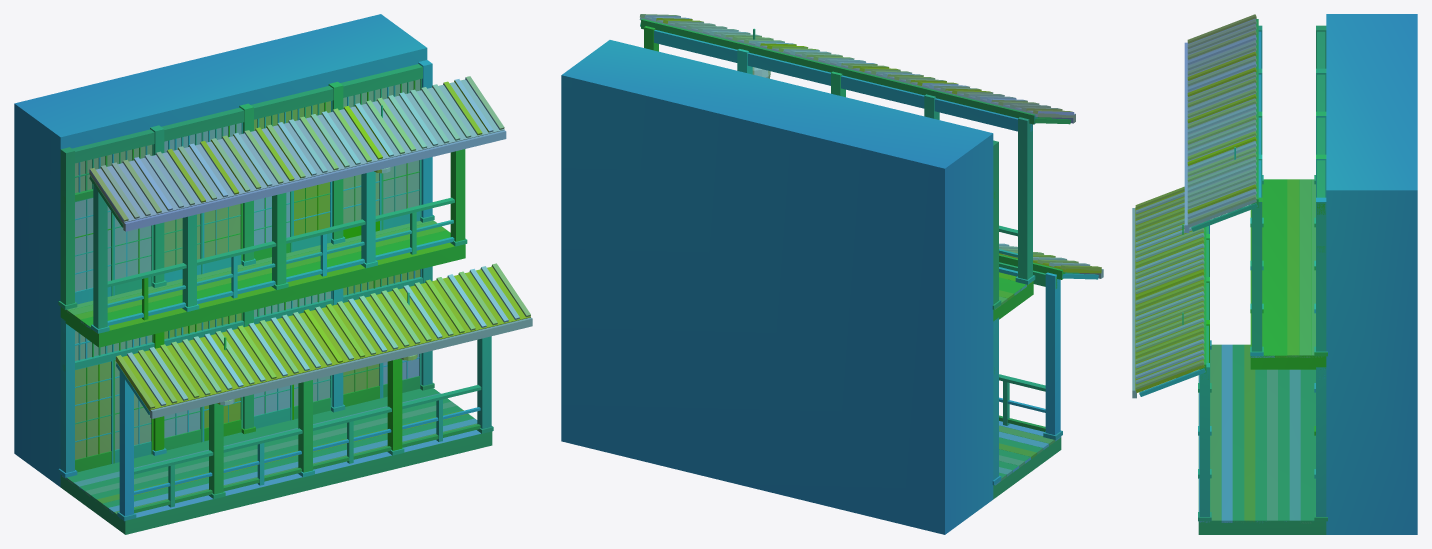
File: B_facade_1.glb
The picture shows the model from 3 angles, left to right: view 1: azimuth 30°, elevation 25°; view 2: azimuth 150°, elevation 25°; view 3: azimuth 270°, elevation 25°; orthographic projection. The views are drawn at different scales.
Visible parts, largest first — view 1: B_facade_1; view 2: B_facade_1; view 3: B_facade_1.
Part boxes in pixels (x1,y1,x2,y2): B_facade_1: [14, 14, 532, 534]; B_facade_1: [561, 14, 1103, 534]; B_facade_1: [1132, 14, 1417, 534].
Bounding box in the file's own units: 8.3 × 7.3 × 5.47.
